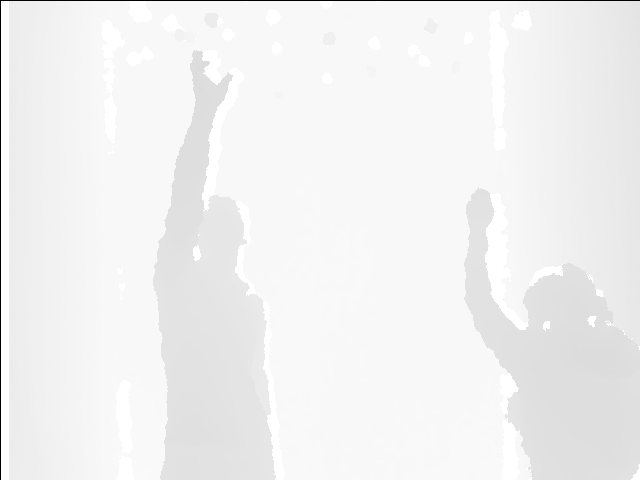hand: (182, 46, 236, 120), (464, 188, 495, 231)
